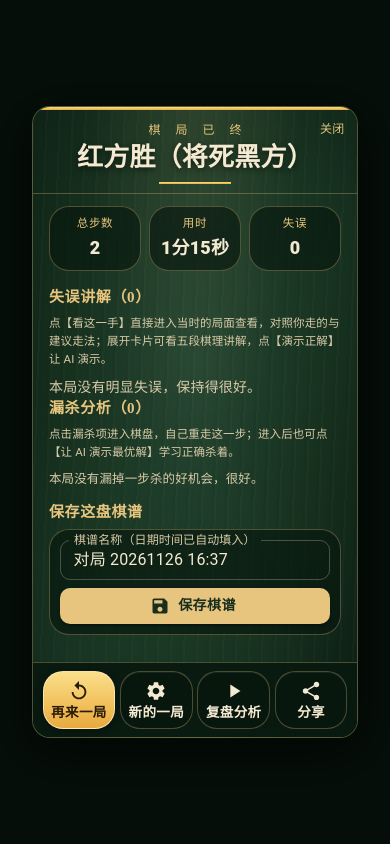
Test: 结算页四按钮（v2026.11.23.5） › 分享仍复制棋谱到剪贴板并弹出 toast
This screenshot has width=390, height=844.
Click the button with test id "result-action-share" at (311, 700), box [275,671,347,729]
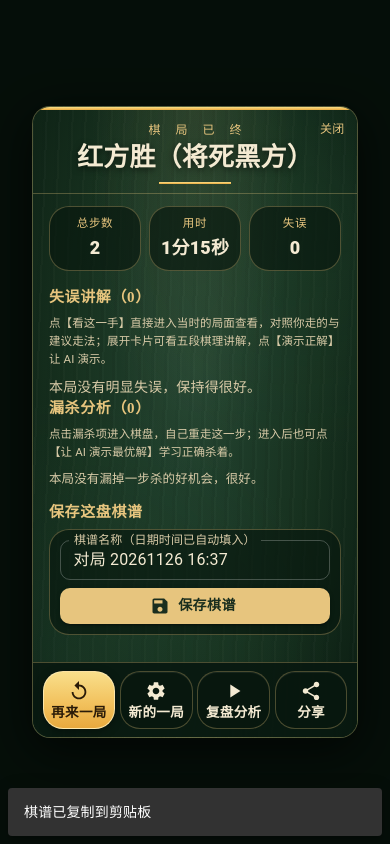
Expected: the text "棋谱已复制到剪贴板" is shown, [24,804,151,820]
